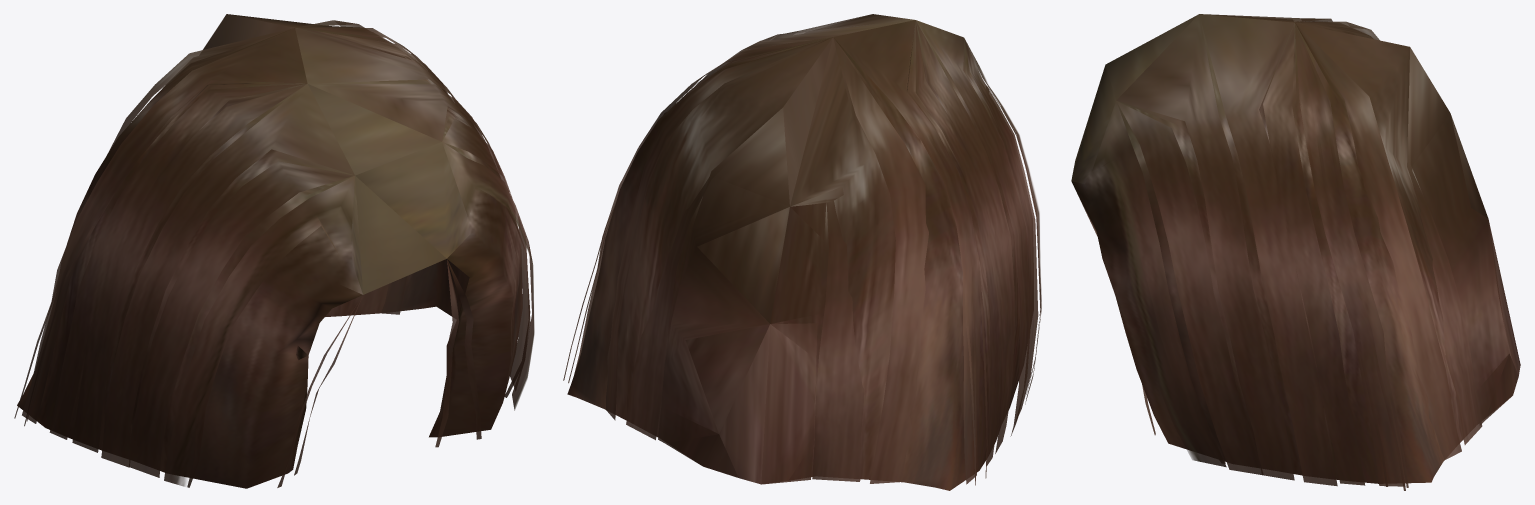
File: short-asian.glb
3 views of the same model, side by side, from view 1: azimuth 30°, elevation 25°; view 2: azimuth 150°, elevation 25°; view 3: azimuth 270°, elevation 25° (orthographic). The views are drawn at different scales.
Parts seen in each view (by area): view 1: hair_short; view 2: hair_short; view 3: hair_short.
Boxes of the visible parts, left/top/right/bottom form: hair_short: left=14, top=14, right=534, bottom=488; hair_short: left=563, top=14, right=1041, bottom=490; hair_short: left=1071, top=14, right=1520, bottom=490.
Bounding box in the file's own units: 0.2663 × 0.2174 × 0.2448.
Materials: 1 (1 with a texture image).
